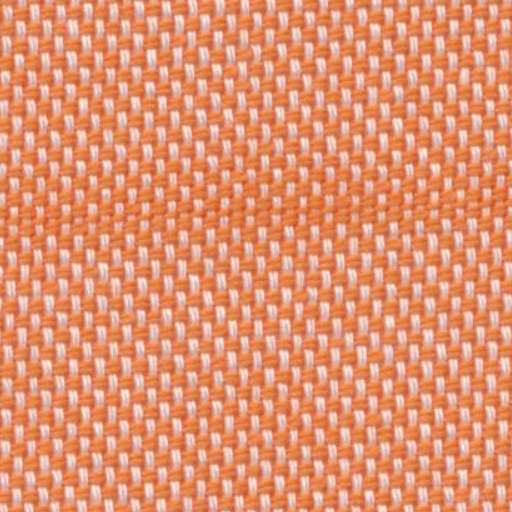TuoSha: (12, 166, 501, 262)
